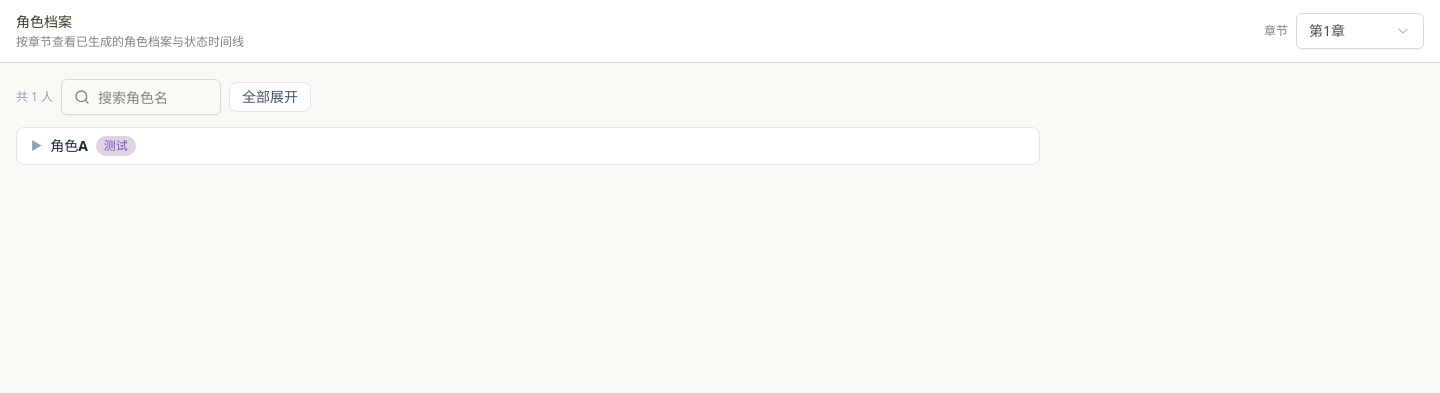
Test case: CharacterArchivePage › 渲染 hobbies 列表
Click the button "全部展开": point(270, 97) [229, 82, 311, 112]
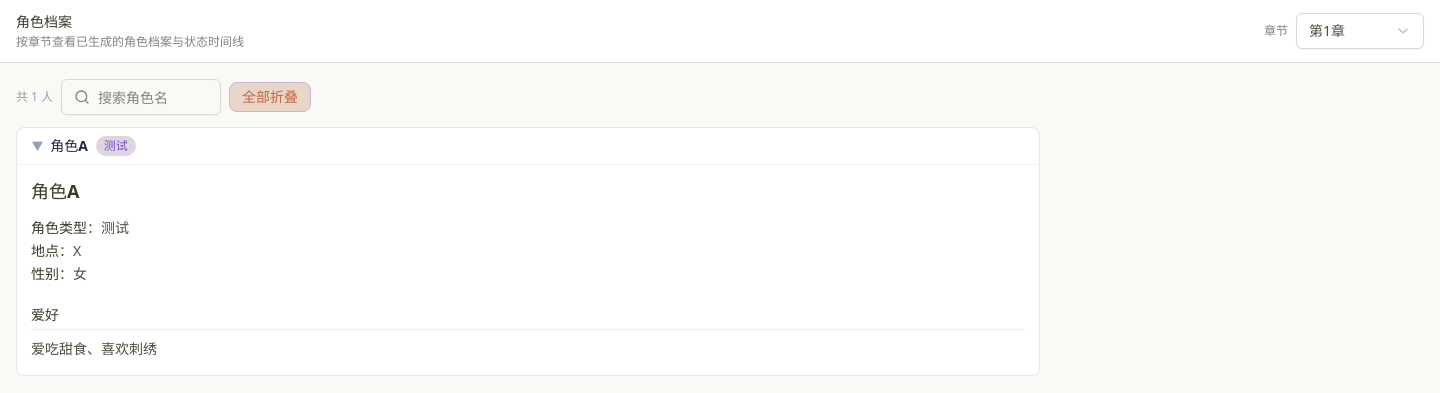
Expected: the text "爱吃甜食、喜欢刺绣" is shown, [31, 339, 157, 358]
